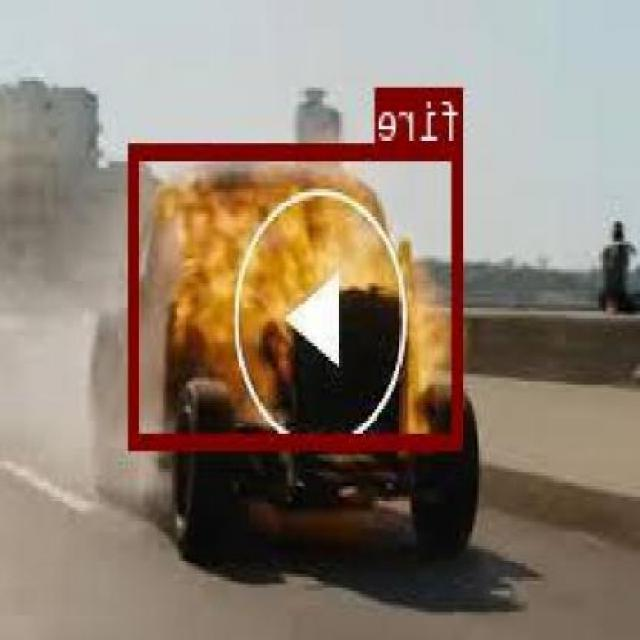Fire: (132, 142, 463, 448)
